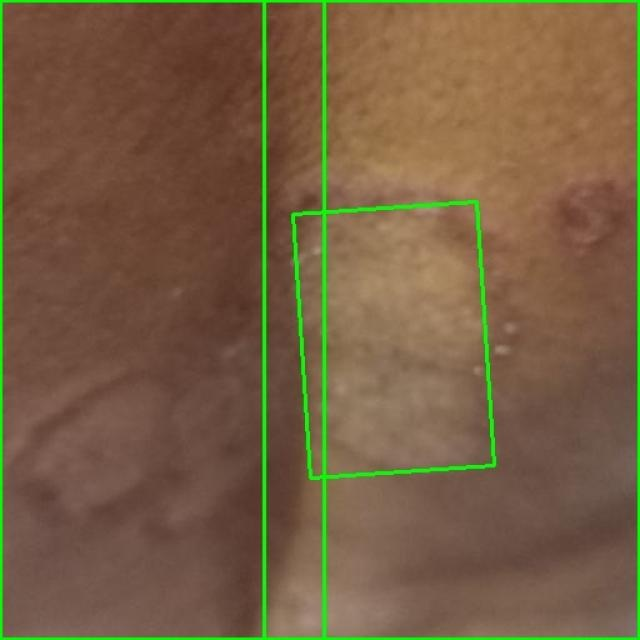Tinea Corporis: (264, 0, 639, 639), (0, 0, 324, 639), (293, 202, 495, 478)
